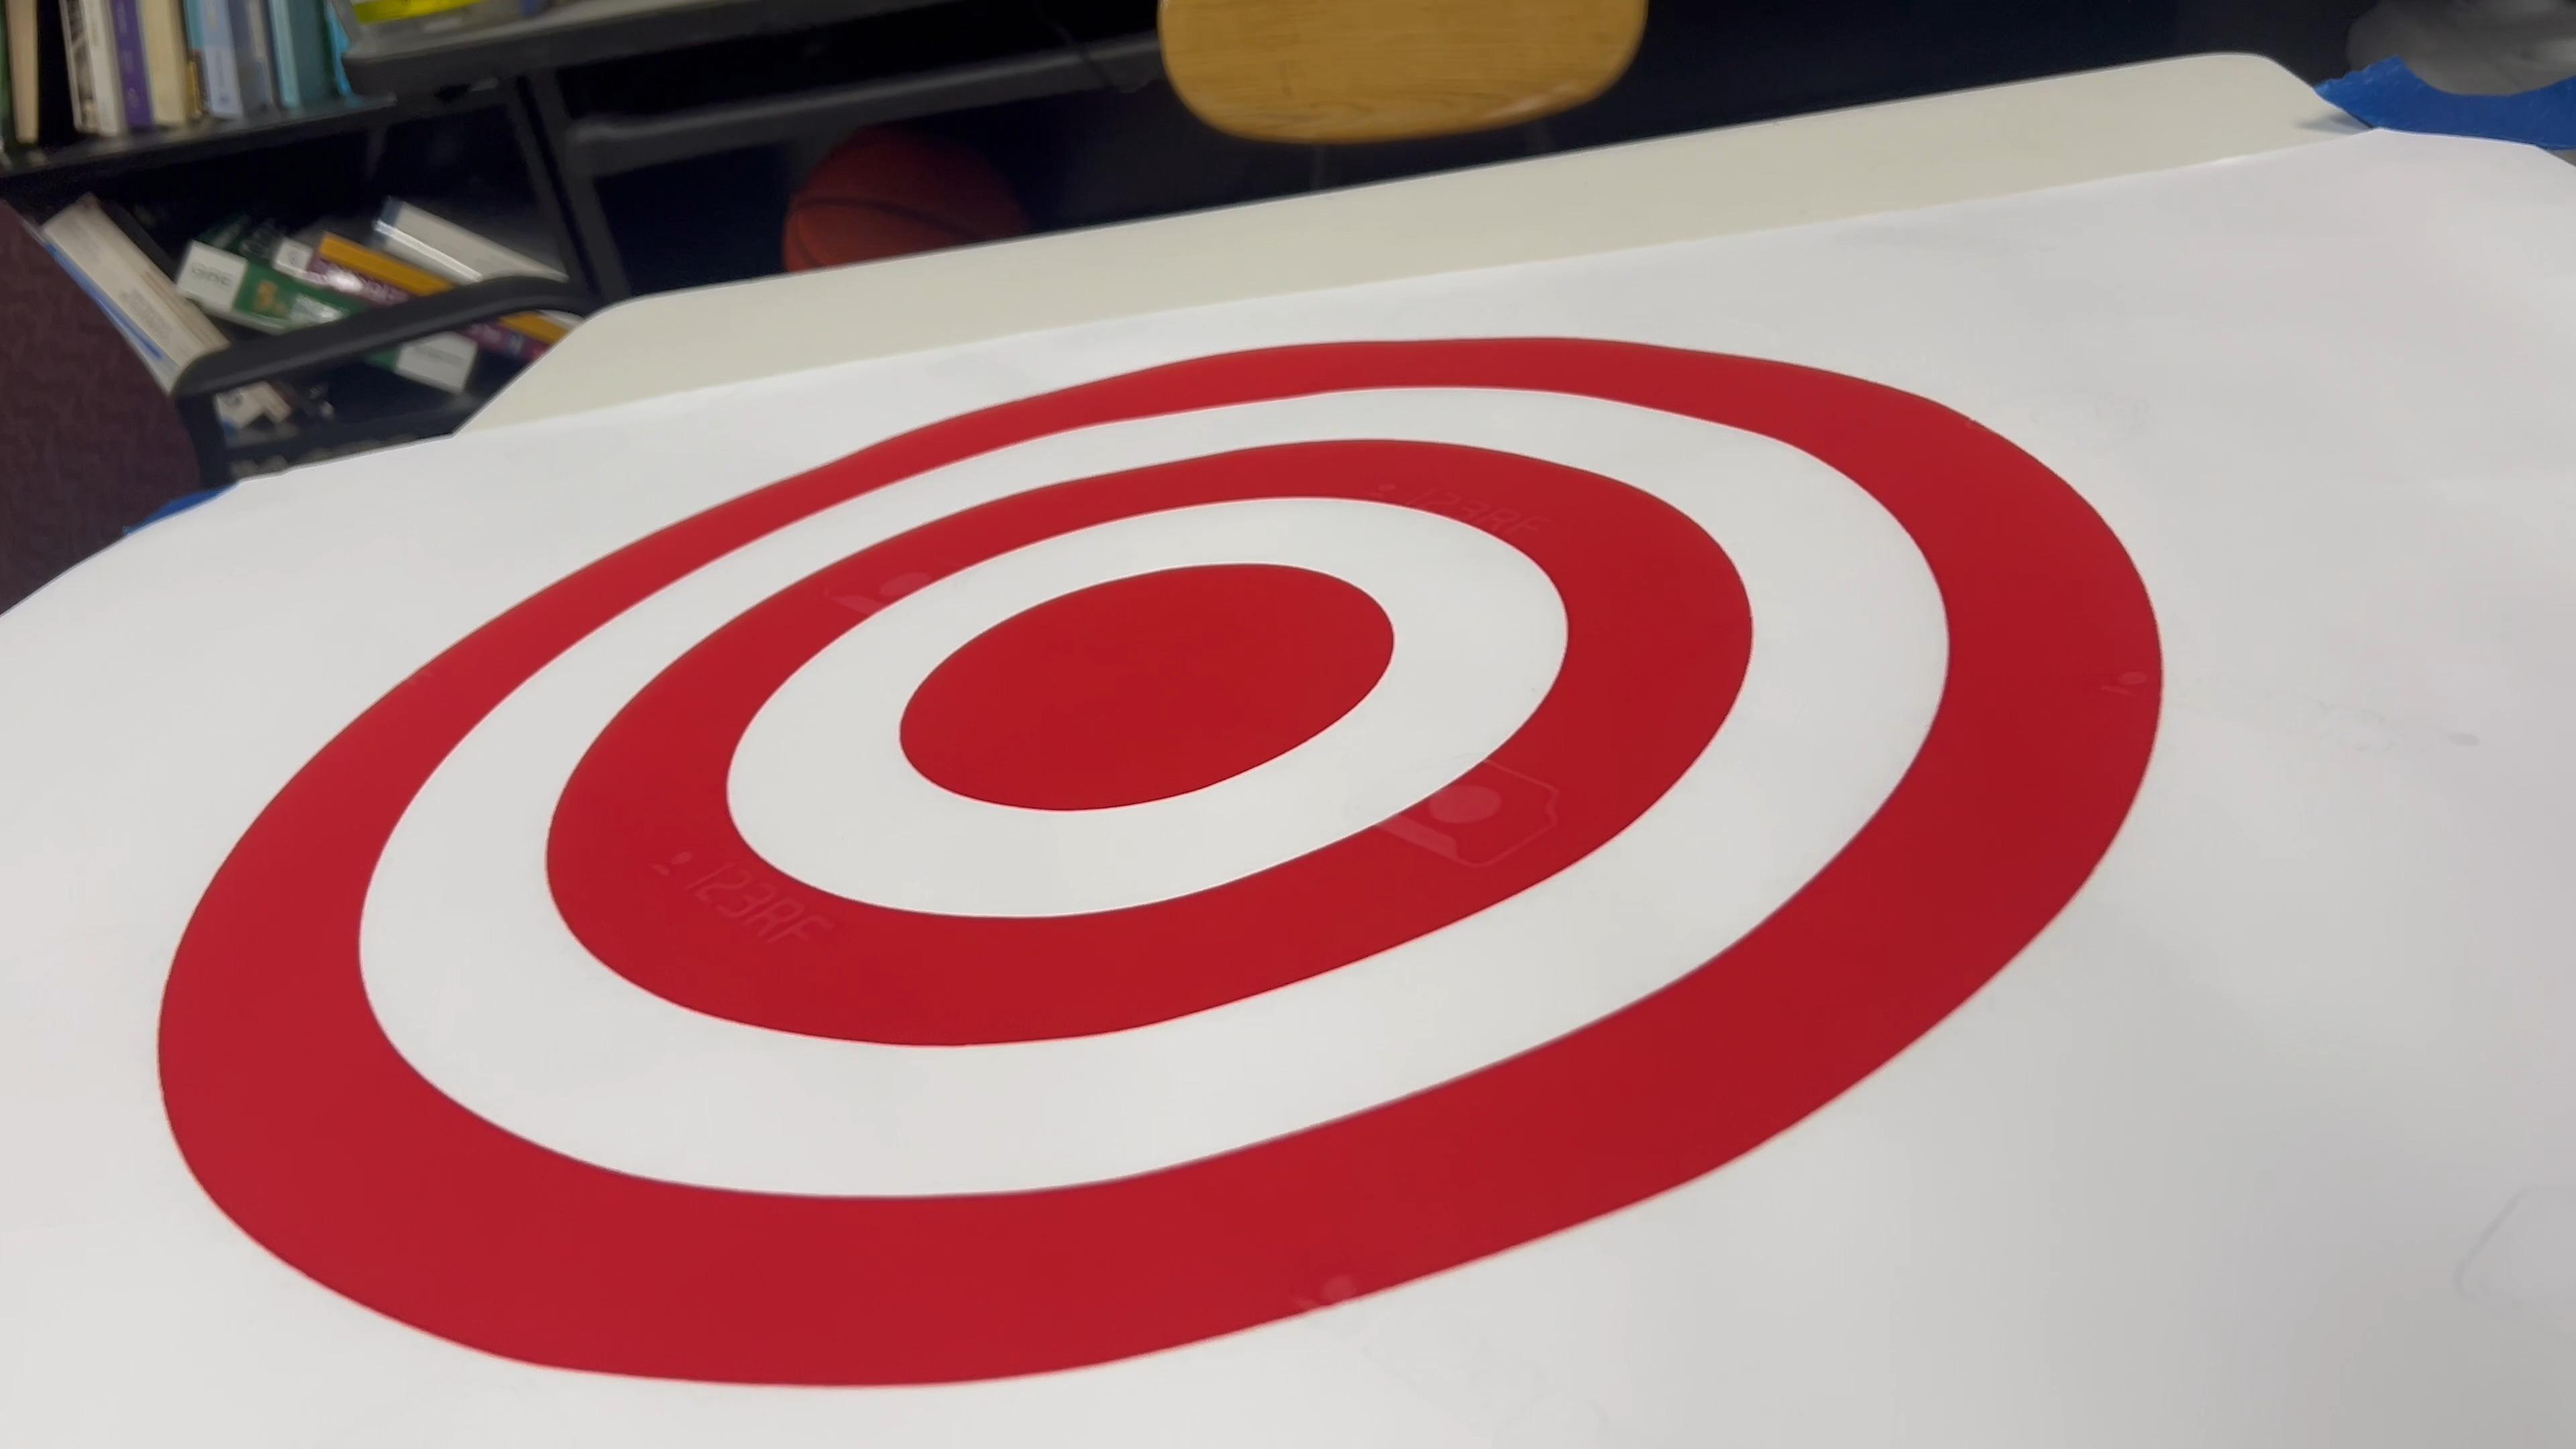target_red: (85, 303, 2210, 1419)
